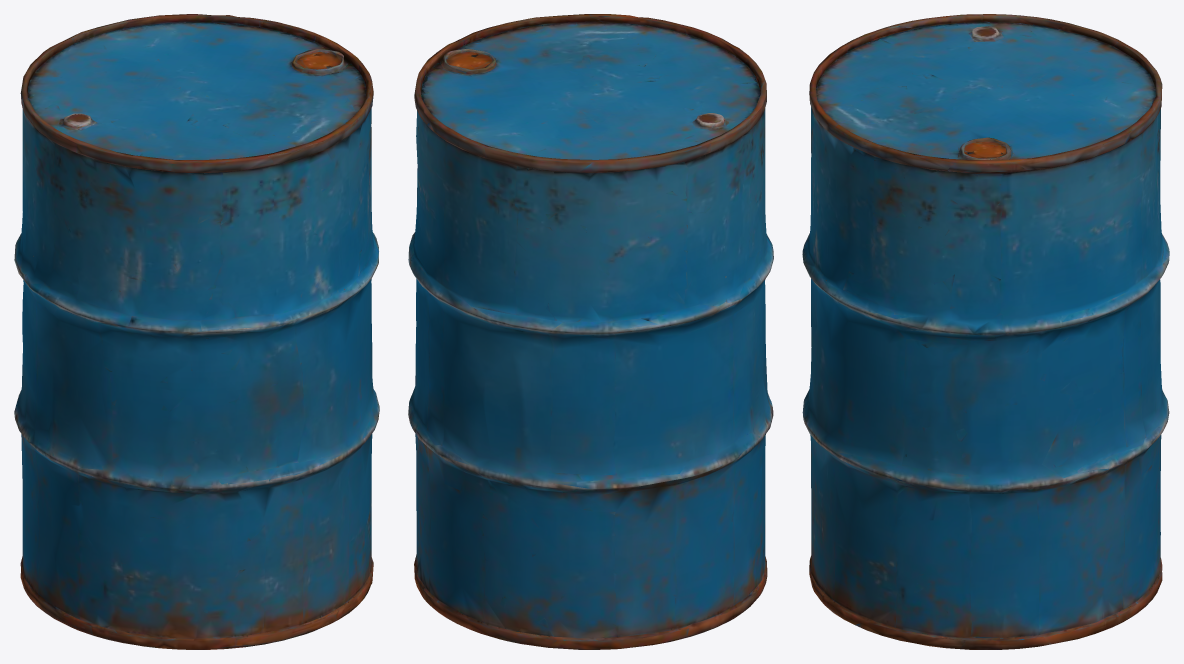
The model's file is strict.glb.
The picture shows the model from 3 angles, left to right: view 1: azimuth 30°, elevation 25°; view 2: azimuth 150°, elevation 25°; view 3: azimuth 270°, elevation 25°; orthographic projection.
Visible parts, largest first — view 1: world; view 2: world; view 3: world.
Boxes of the visible parts, left/top/right/bottom form: world: left=14, top=14, right=379, bottom=649; world: left=408, top=14, right=773, bottom=649; world: left=802, top=14, right=1169, bottom=649.
Bounding box in the file's own units: 0.6835 × 1 × 0.6835.
1 material, 1 textured.
